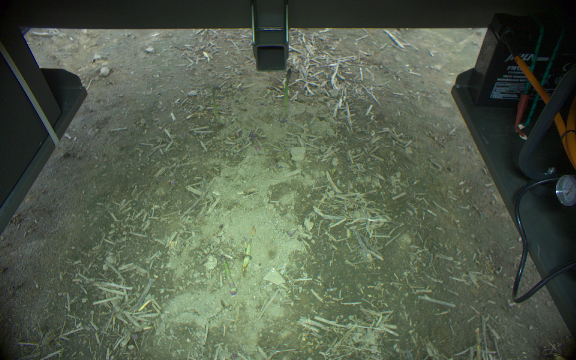aspa: (219, 254, 237, 296), (280, 68, 293, 118), (211, 85, 225, 126), (240, 242, 253, 278)
